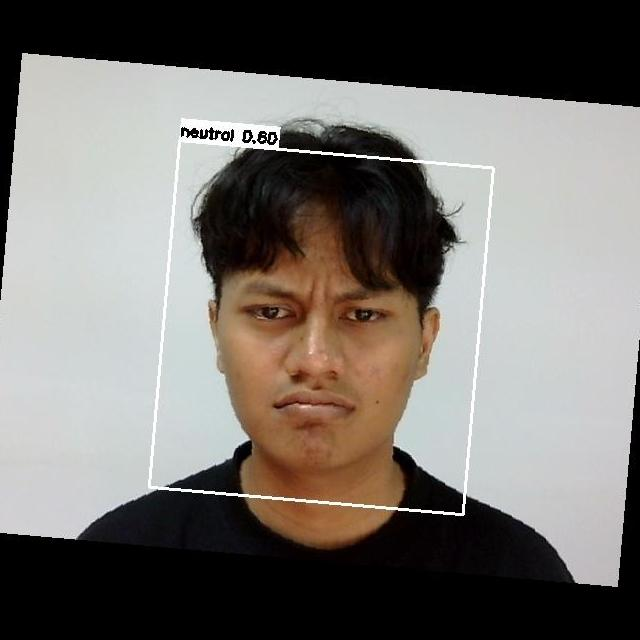Sad: (210, 245, 431, 447)
